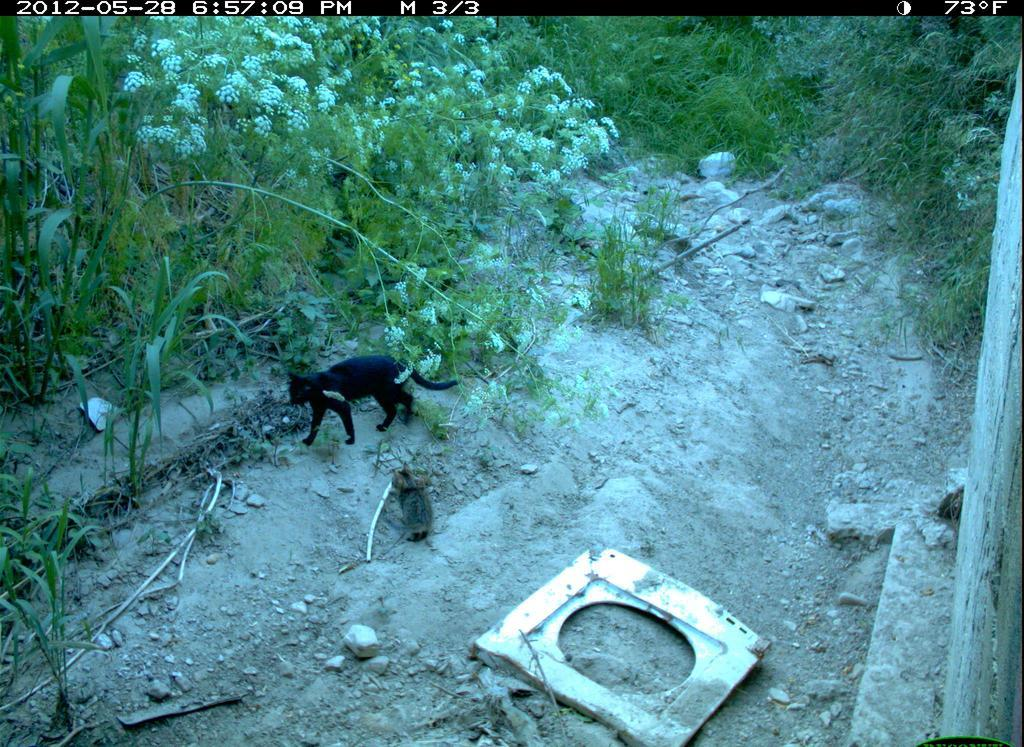cat: (277, 349, 447, 447), (372, 455, 460, 557)
